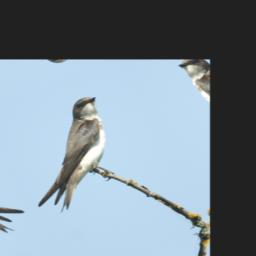Swallow: (0, 93, 140, 220)
